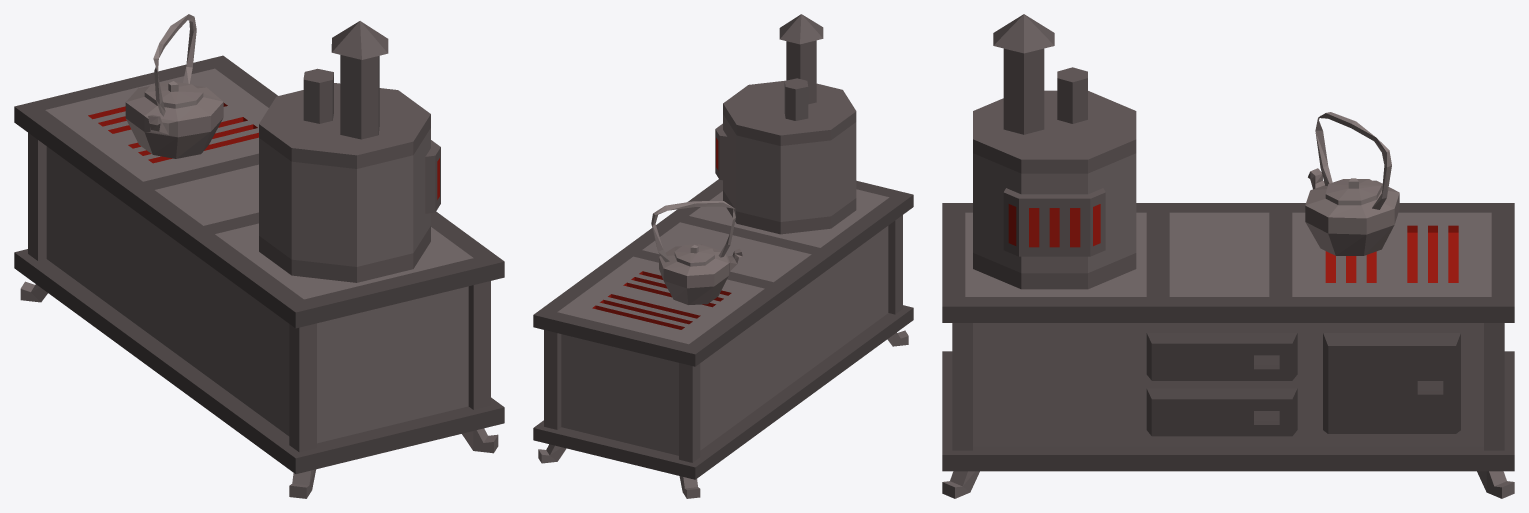
Rendered from kitchen.gltf.
The picture shows the model from 3 angles, left to right: view 1: azimuth 30°, elevation 25°; view 2: azimuth 150°, elevation 25°; view 3: azimuth 270°, elevation 25°; orthographic projection. The views are drawn at different scales.
Size of the model in its own units: 96 by 187 by 224.
Materials: 1 (1 with a texture image).
